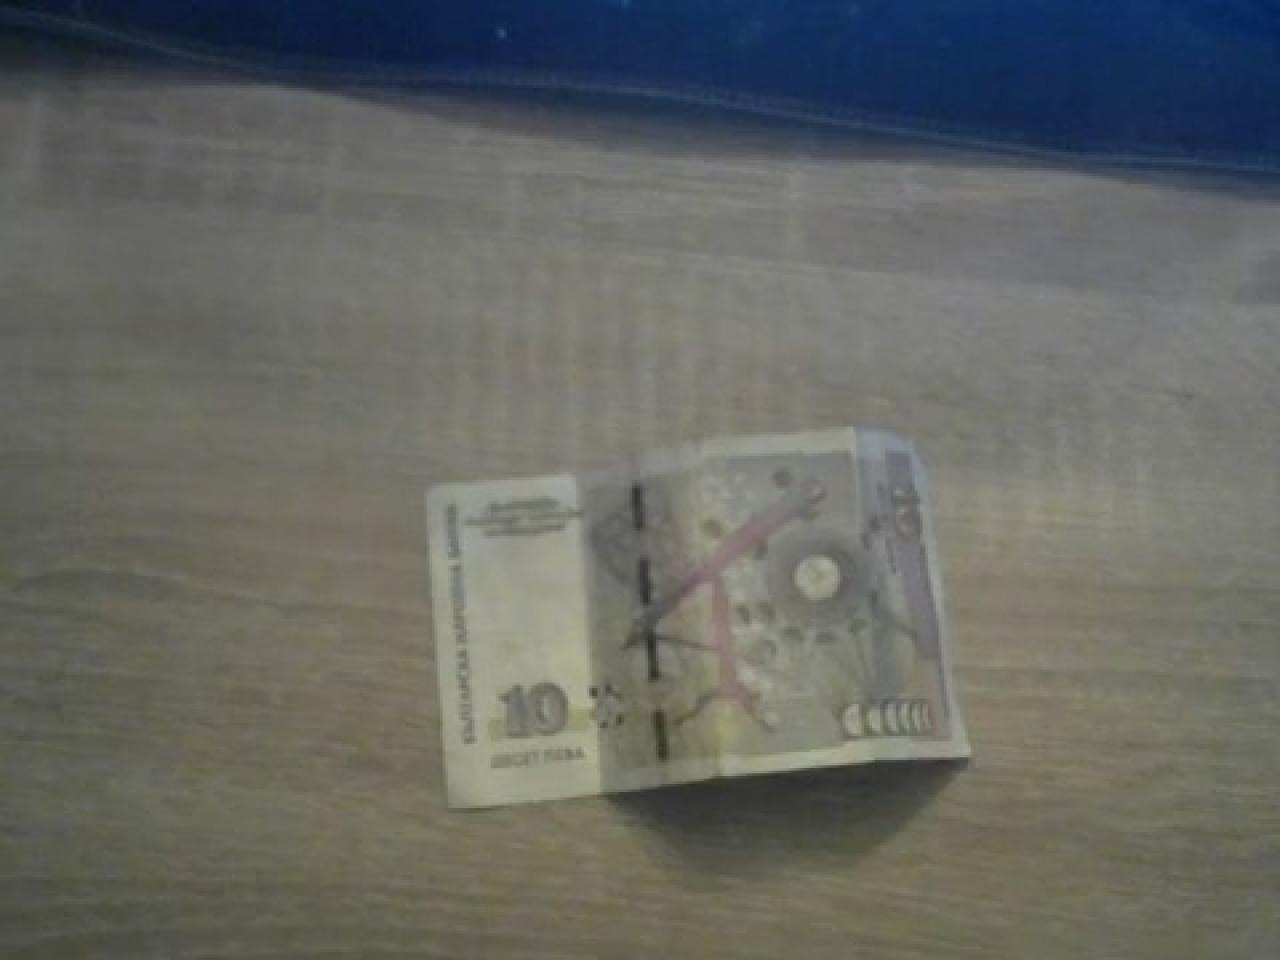10leva: (421, 427, 971, 814)
